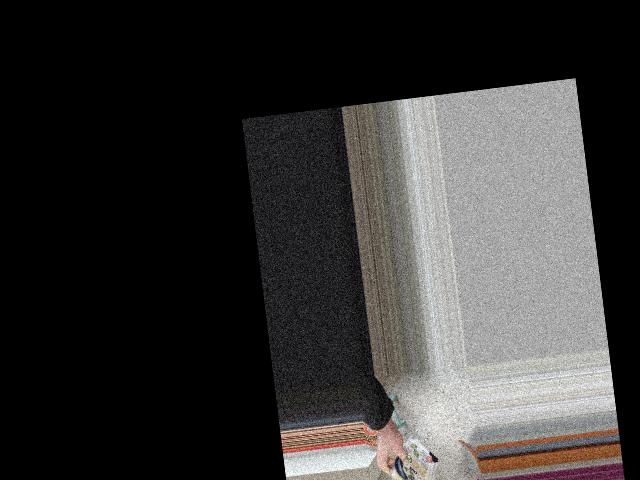cheese: (370, 438, 449, 480)
